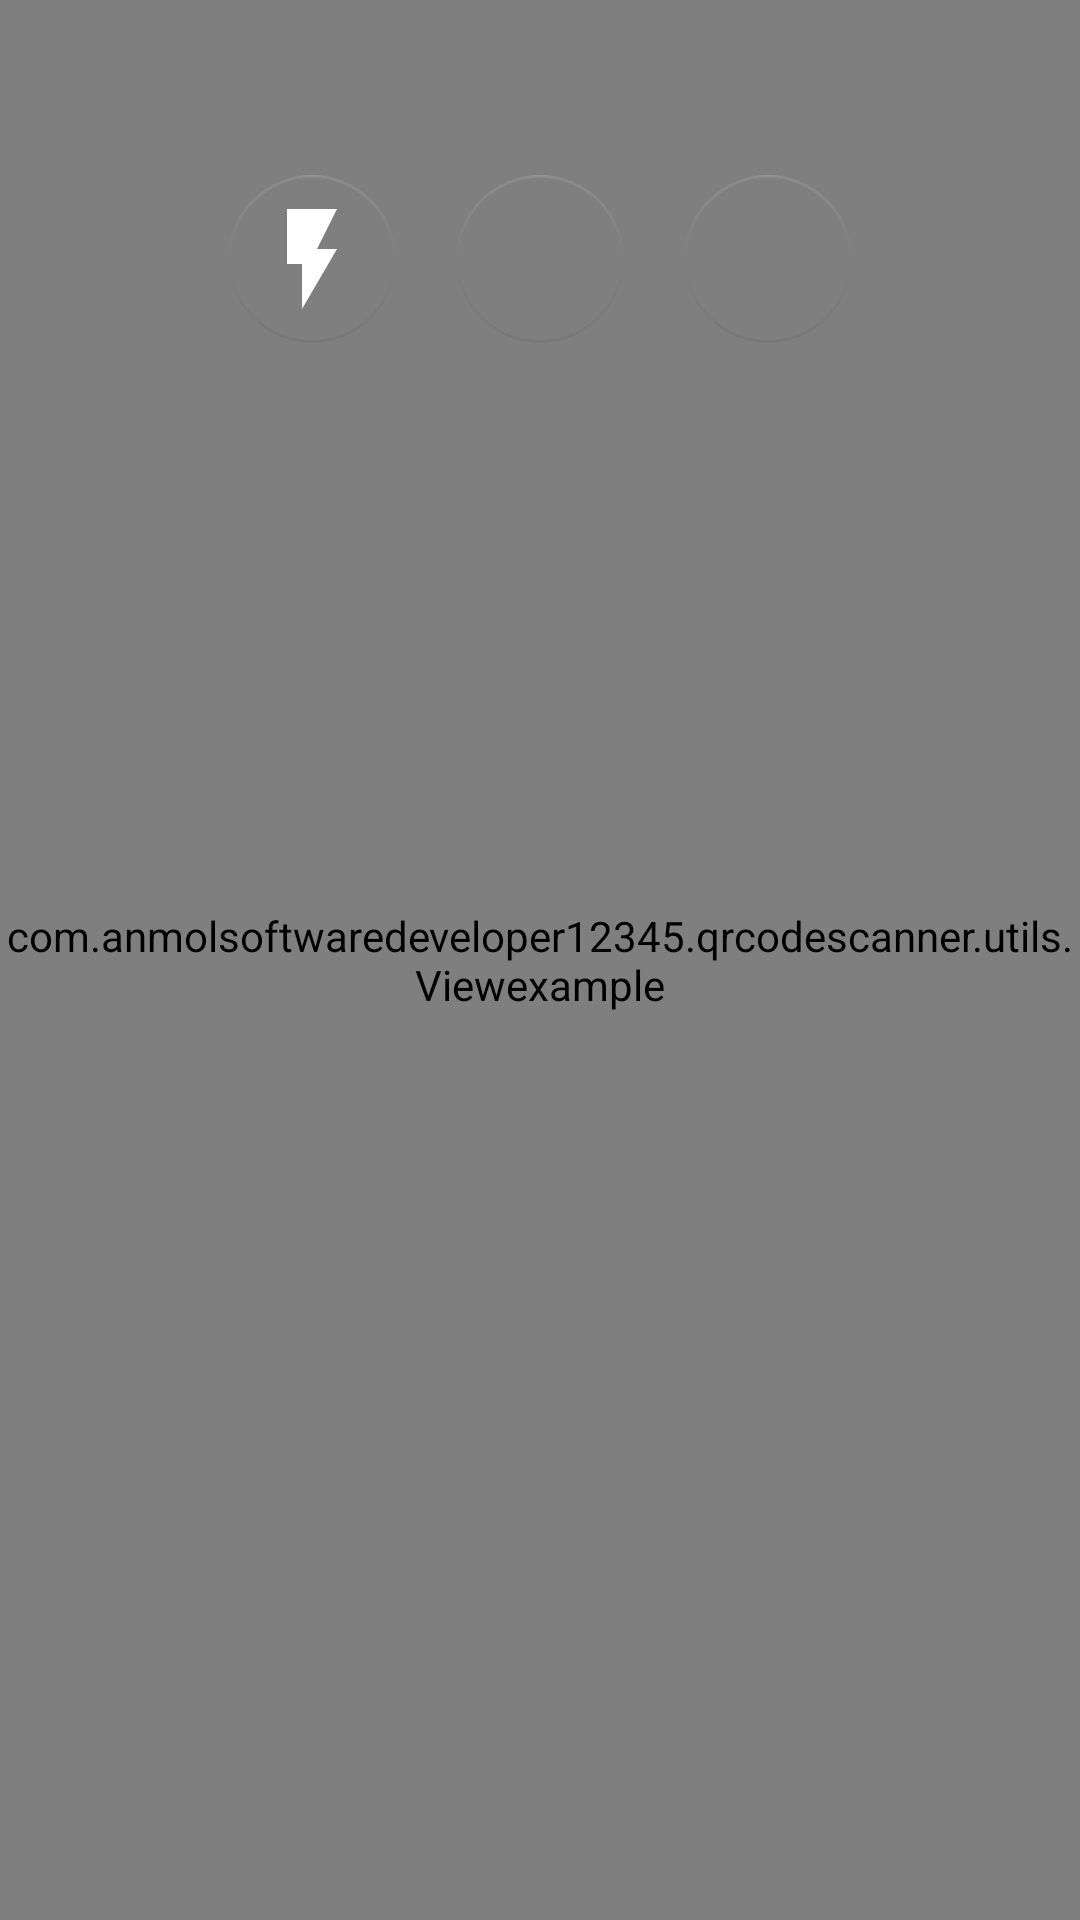

Named icons in this screenshot (1080px x 1920px) and their centers, [x,y]:
flash: [312,259]
